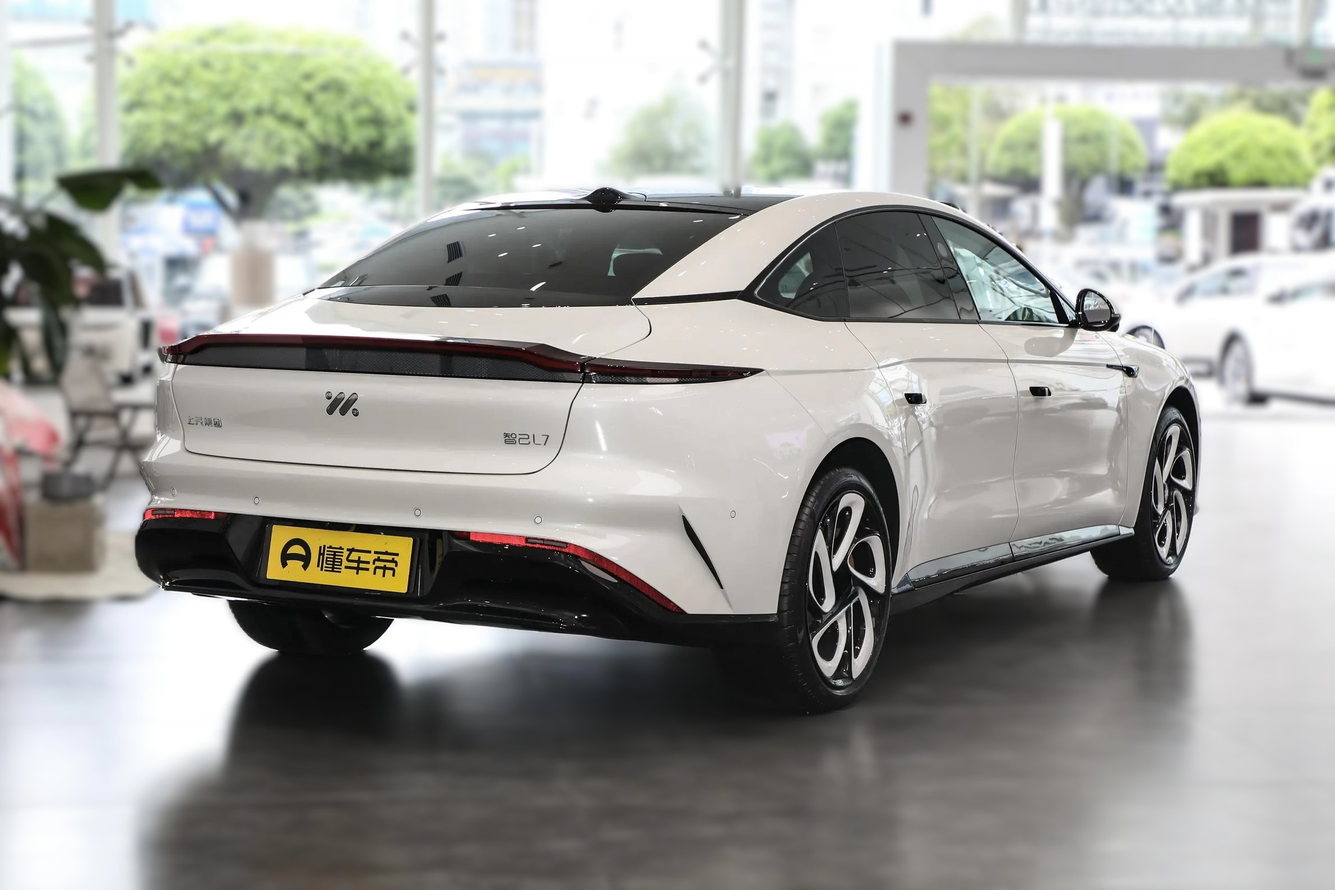IM: (326, 391, 359, 416)
